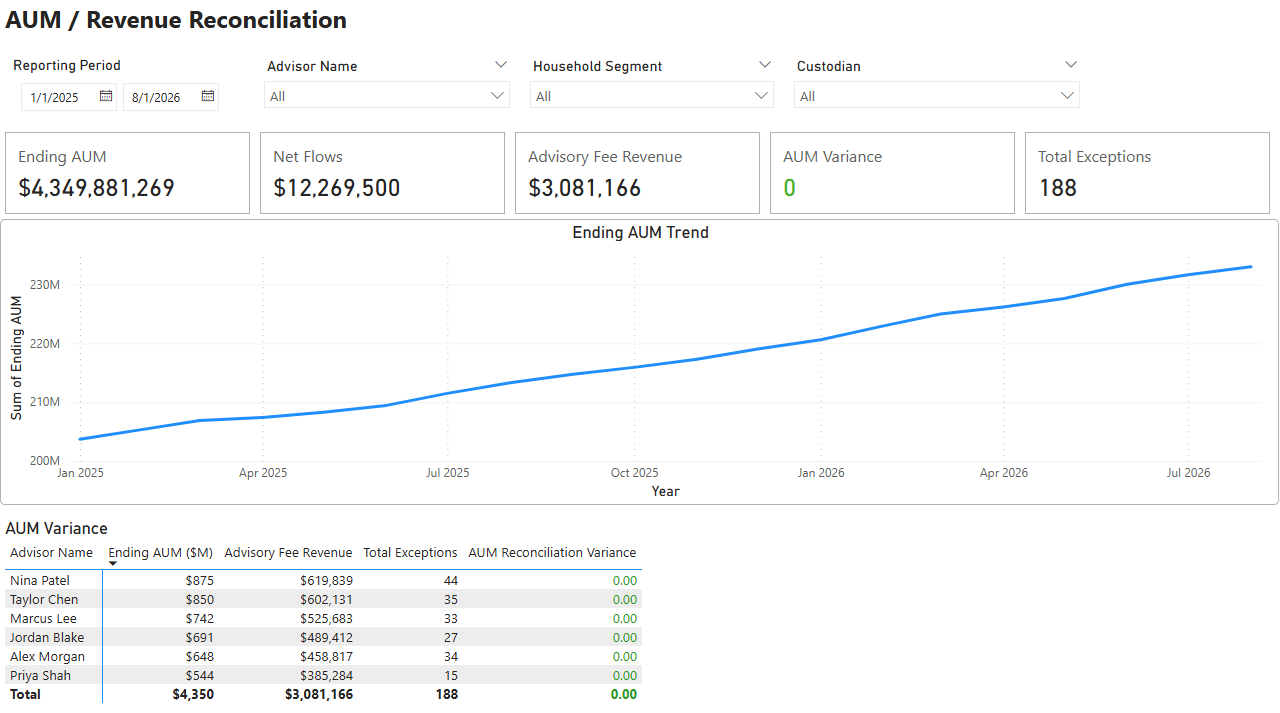

This screenshot's page, from the dashboard's own definition file:
{"tool":"powerbi","page":{"name":"AUM / Revenue Reconciliation","canvas":[1280,720],"ordinal":2},"visuals":[{"type":"slicer","title":"   Reporting Period","fields":{"Values":["FactAUMMonthly.Month Start"]},"box":[8,60,266,66],"z":0},{"type":"slicer","fields":{"Values":["DimAdvisor.AdvisorName"]},"box":[254,56,266,59],"z":1000},{"type":"slicer","fields":{"Values":["DimClient.Household Segment"]},"box":[520,56,264,96],"z":2000},{"type":"slicer","fields":{"Values":["FactCustodianAccounts.Custodian"]},"box":[784,56,306,74],"z":3000},{"type":"cardVisual","fields":{"Data":["FactAUMMonthly.Total Ending AUM","FactAUMMonthly.Net Flows","Sum(FactAUMMonthly.Advisory Fee Revenue)","FactAUMMonthly.AUM Reconciliation Variance","FactDataQualityExceptions.Total Exceptions"]},"box":[0,130,1279,92],"z":4000},{"type":"pivotTable","title":"AUM Variance","fields":{"Rows":["DimAdvisor.AdvisorName"],"Values":["DataDictionary.Total Ending AUM ($M)","FactAUMMonthly.Total Advisory Fee Revenue","FactDataQualityExceptions.Total Exceptions","FactAUMMonthly.AUM Reconciliation Variance"]},"box":[0,521,1279,199],"z":5000},{"type":"lineChart","title":"Ending AUM Trend","fields":{"Y":["Sum(FactAUMMonthly.Ending AUM)"],"Category":["FactAUMMonthly.Month Start.Variation.Date Hierarchy.Year","FactAUMMonthly.Month Start.Variation.Date Hierarchy.Month"]},"box":[0,222,1279,286],"z":6000},{"type":"textbox","box":[0,0,1279,45],"z":7000}]}

Visuals, with their boxes in screenshot pixels (x1, y1, x2, y2), scaled from the page's 1280x720 canvas onto the 1280x713 screenshot:
"   Reporting Period" slicer: Rect(8, 59, 274, 125)
slicer - DimAdvisor.AdvisorName: Rect(254, 55, 520, 114)
slicer - DimClient.Household Segment: Rect(520, 55, 784, 151)
slicer - FactCustodianAccounts.Custodian: Rect(784, 55, 1090, 129)
cardVisual - FactAUMMonthly.Total Ending AUM x FactAUMMonthly.Net Flows: Rect(0, 129, 1279, 220)
"AUM Variance" pivotTable: Rect(0, 516, 1279, 712)
"Ending AUM Trend" lineChart: Rect(0, 220, 1279, 503)
textbox: Rect(0, 0, 1279, 45)
